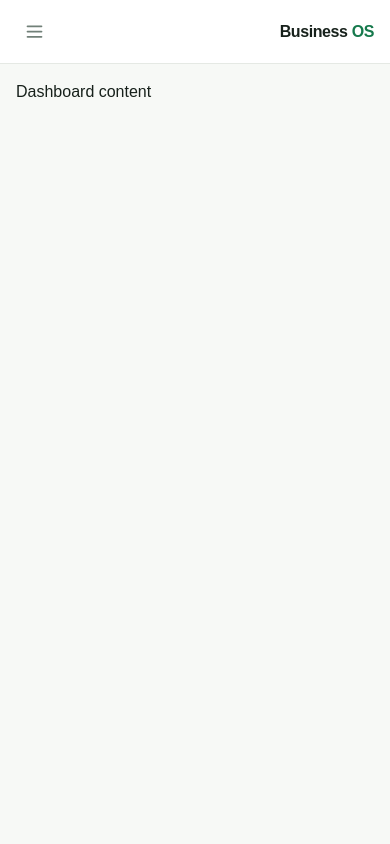
mobile drawer accessibility › makes the closed mobile drawer inert and restores it when open
Click the button named "Open navigation": (34, 32) 16,13 -> 53,50
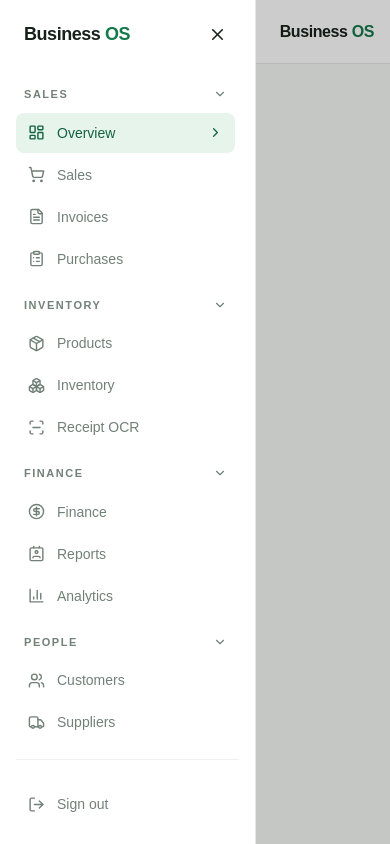
Now the element with id "workspace-navigation" does not have attribute inert
